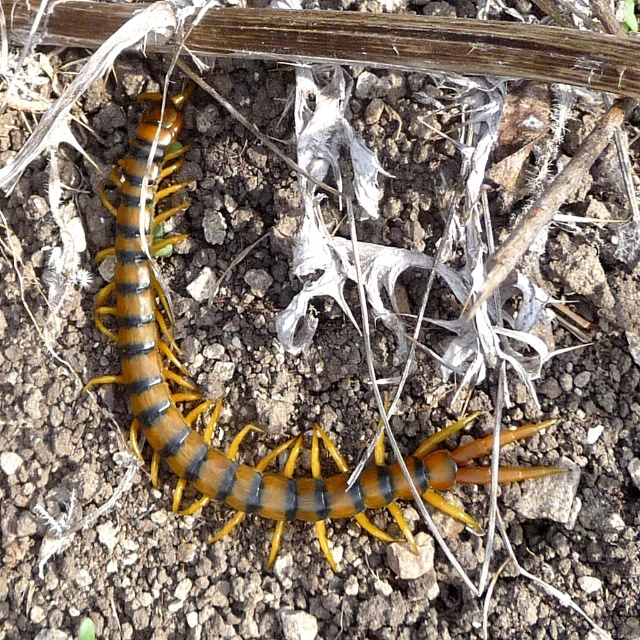Centipede: (83, 89, 576, 569)
